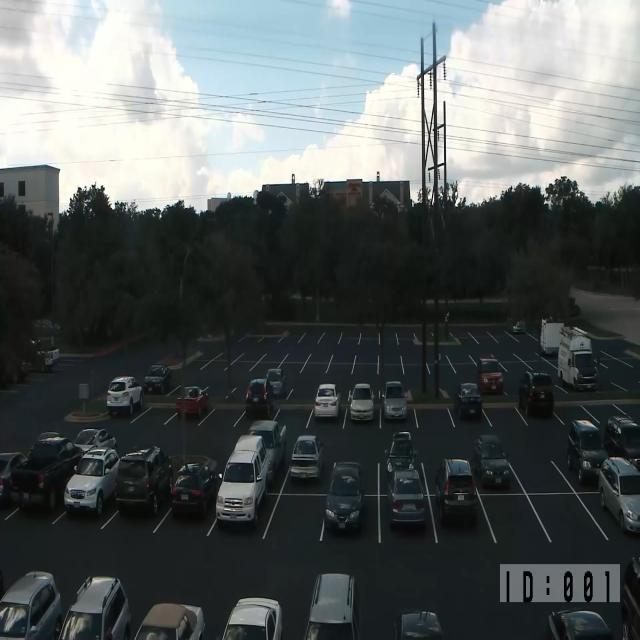car: (8, 434, 84, 512), (215, 434, 271, 527), (58, 575, 131, 639), (0, 569, 62, 639), (115, 445, 172, 516), (303, 572, 361, 640), (64, 446, 120, 516), (598, 456, 640, 533), (434, 457, 478, 524), (324, 461, 365, 532), (171, 456, 217, 517), (567, 419, 609, 484), (221, 596, 283, 640), (134, 602, 205, 639), (386, 468, 426, 528), (248, 420, 286, 480), (548, 608, 613, 640), (473, 433, 510, 488), (604, 413, 640, 469), (518, 370, 554, 418), (620, 556, 640, 640), (290, 434, 324, 482), (106, 375, 143, 417), (0, 451, 27, 506), (20, 337, 60, 374), (392, 610, 443, 639), (385, 431, 416, 477), (74, 428, 118, 454), (369, 188, 407, 218), (348, 382, 374, 423), (476, 356, 504, 394), (245, 378, 273, 416), (176, 386, 209, 418), (454, 382, 482, 419), (382, 381, 407, 420), (314, 383, 341, 419), (144, 364, 172, 394), (266, 367, 286, 396), (32, 318, 60, 336), (392, 430, 411, 442), (512, 318, 526, 334)
